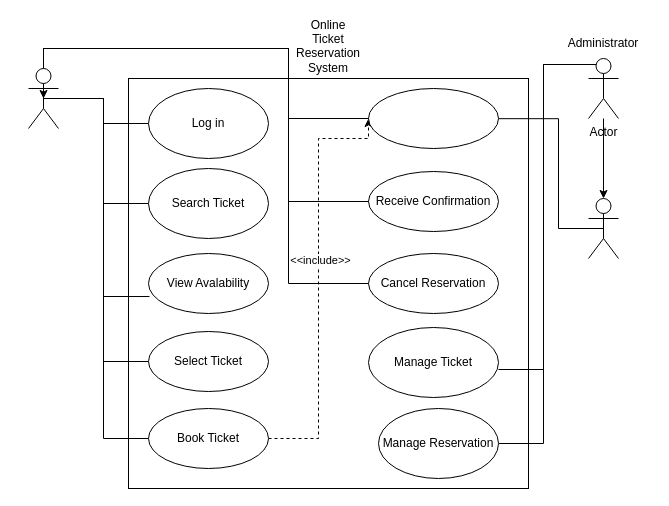
Some shapes in this 669 by 506 pixel diagram are drawn without their labels. The shapes that lost their labels are listed below. From the top down, each one's box as (x1, y1, x2, y2) in pixels, then its label:
(28, 68, 58, 128): Customer
(368, 88, 498, 148): Make Payment
(588, 198, 618, 258): Payment Gateway
